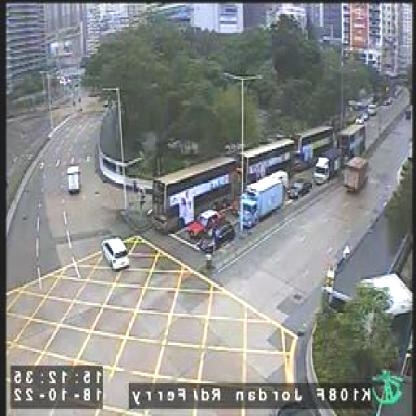Bus: (151, 154, 236, 235), (239, 138, 296, 187), (294, 126, 334, 161), (338, 124, 367, 160)
Car: (198, 218, 236, 256), (186, 208, 226, 237), (101, 235, 132, 269), (287, 178, 311, 200), (366, 99, 380, 117)
Truck: (236, 172, 286, 228), (312, 146, 343, 185), (343, 156, 370, 193), (67, 164, 81, 196)
